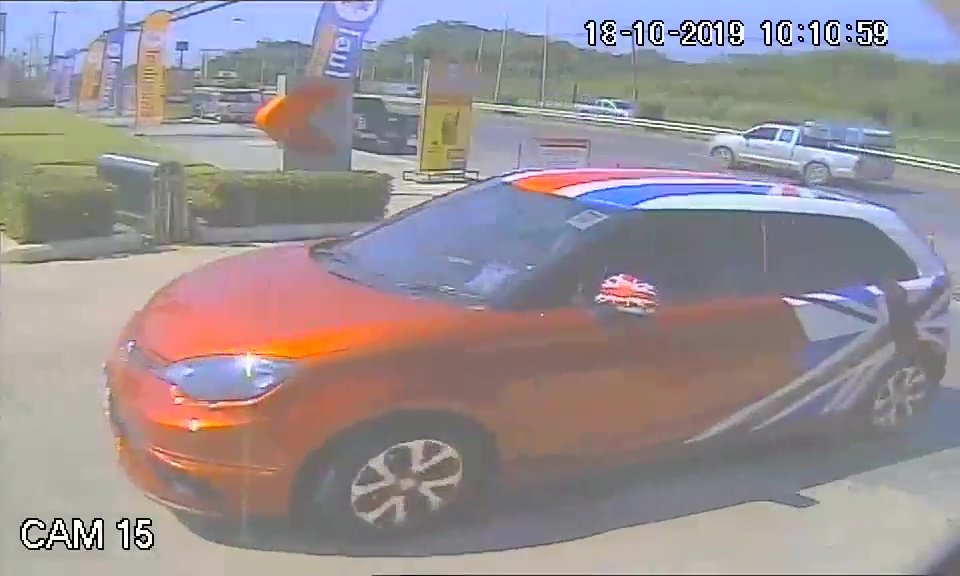sedan: (101, 165, 951, 542)
